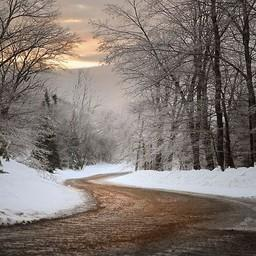Snow: (0, 157, 135, 223), (90, 167, 255, 197)
